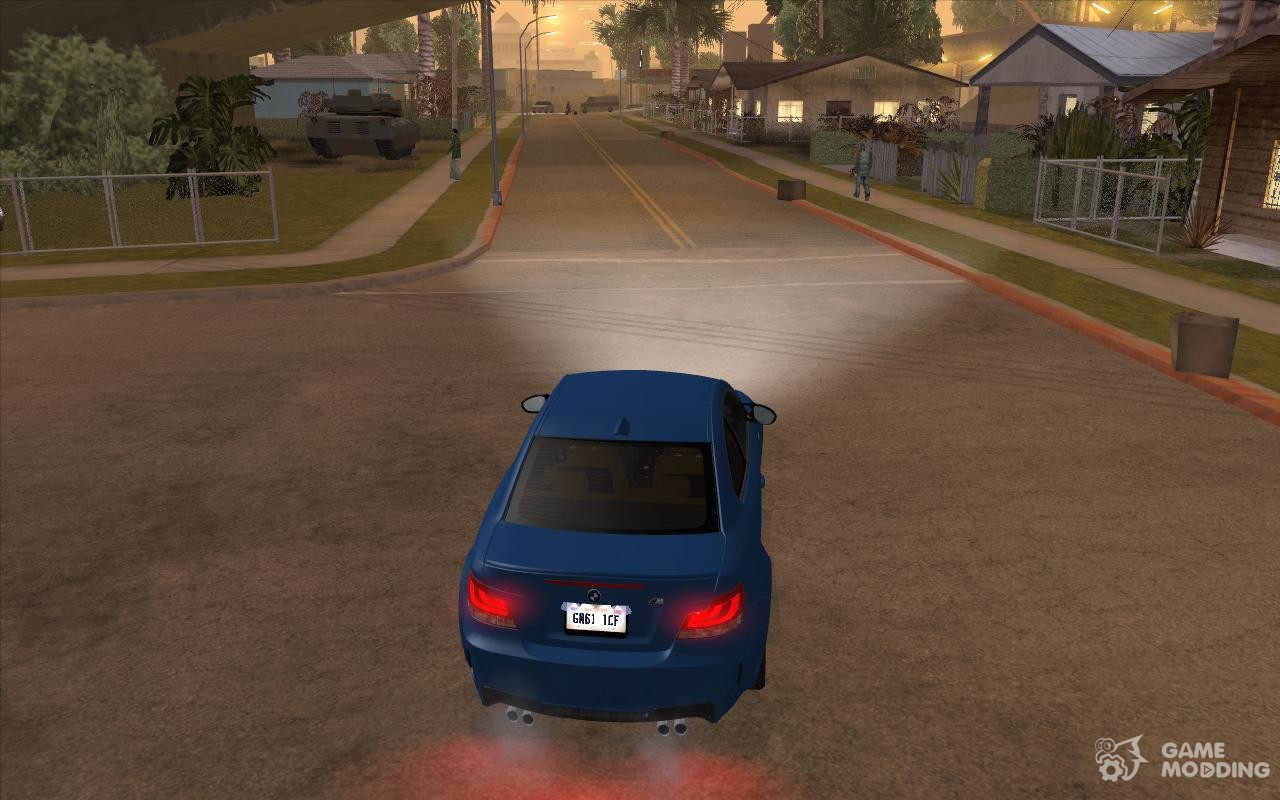car: (479, 363, 777, 730)
person: (442, 123, 468, 190), (850, 140, 877, 202)
